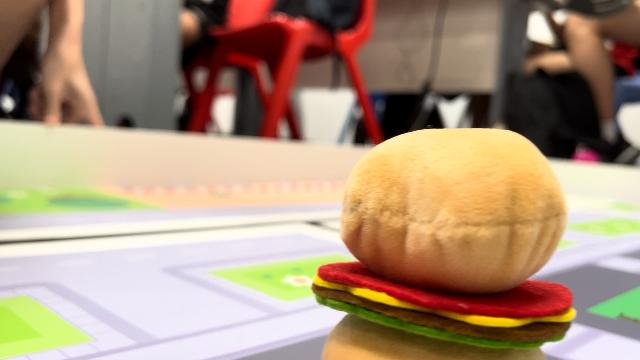burger: (310, 122, 580, 350)
